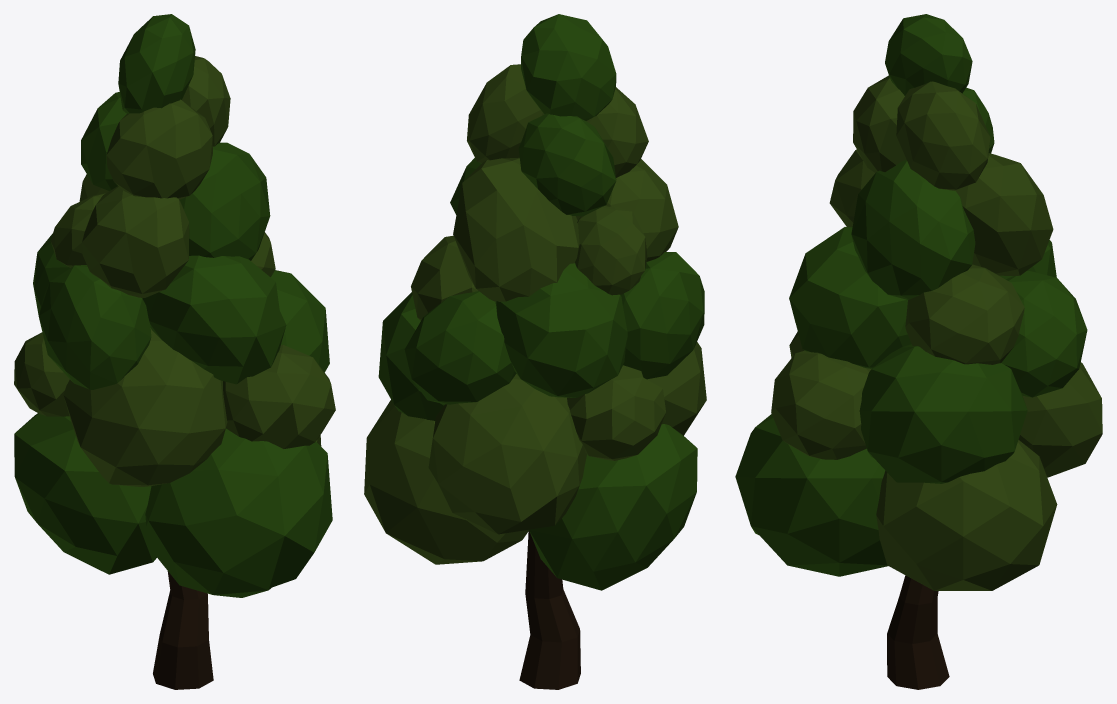
File: Poplar_Tree.glb
3 views of the same model, side by side, from view 1: azimuth 30°, elevation 25°; view 2: azimuth 150°, elevation 25°; view 3: azimuth 270°, elevation 25° (orthographic). The views are drawn at different scales.
Parts seen in each view (by area): view 1: mesh_mm1, Poplar_Cylinder.003, mesh_mm2; view 2: Poplar_Cylinder.003, mesh_mm1, mesh_mm2; view 3: mesh_mm1, Poplar_Cylinder.003, mesh_mm2.
Part boxes in pixels (x1=…): mesh_mm1: x1=14, y1=14, x2=332, y2=597; Poplar_Cylinder.003: x1=14, y1=56, x2=335, y2=486; mesh_mm2: x1=153, y1=571, x2=213, y2=689; Poplar_Cylinder.003: x1=364, y1=64, x2=706, y2=564; mesh_mm1: x1=378, y1=14, x2=704, y2=590; mesh_mm2: x1=519, y1=531, x2=580, y2=689; mesh_mm1: x1=735, y1=14, x2=1087, y2=576; Poplar_Cylinder.003: x1=771, y1=75, x2=1102, y2=590; mesh_mm2: x1=887, y1=575, x2=949, y2=689.
Size of the model in its own units: 2.69 by 5.82 by 2.96.
